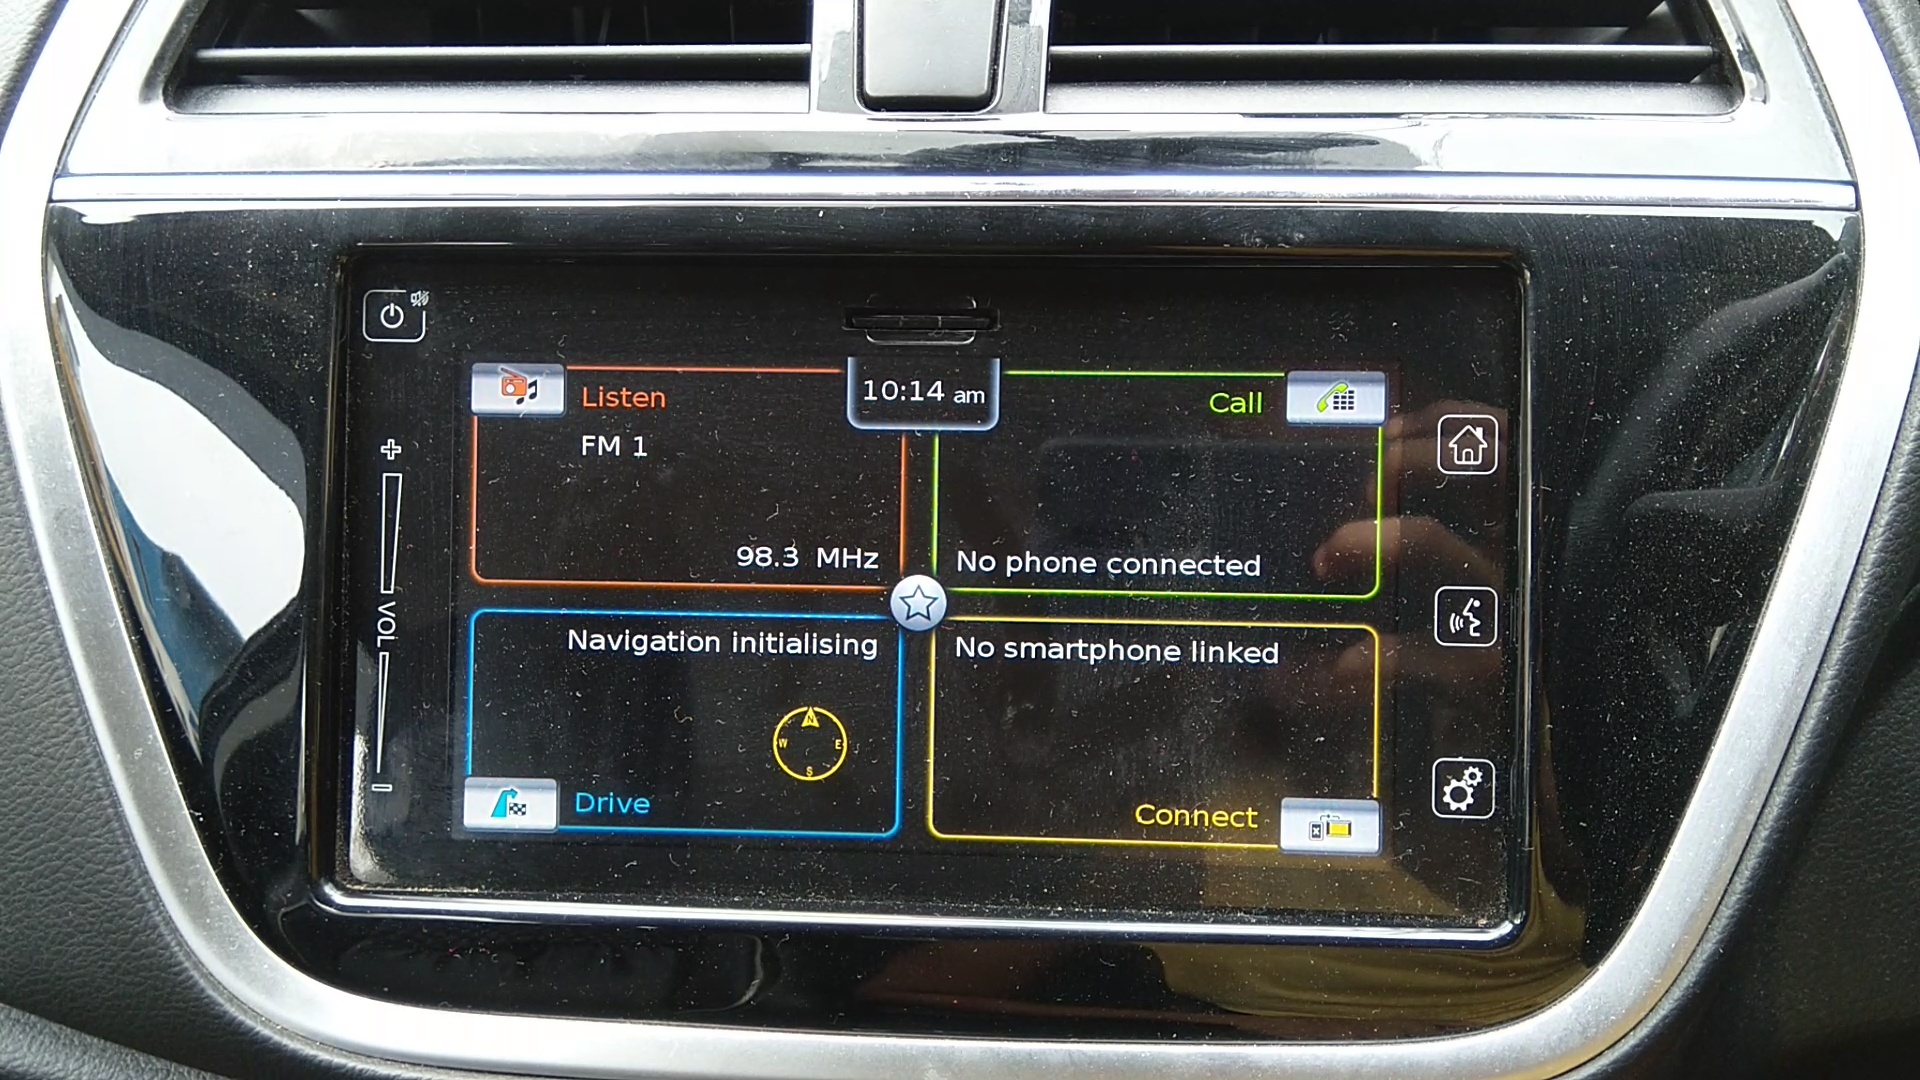touch_infotainment: (280, 225, 1601, 947)
